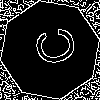C: (25, 25, 78, 70)
